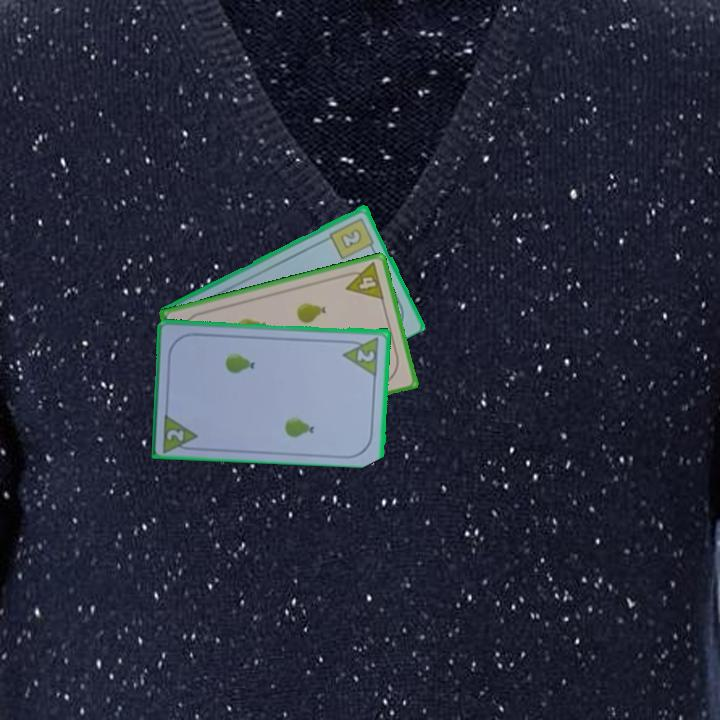2b: (326, 213, 377, 262)
2p: (340, 333, 382, 377), (163, 426, 187, 444)
4p: (339, 259, 387, 303)
